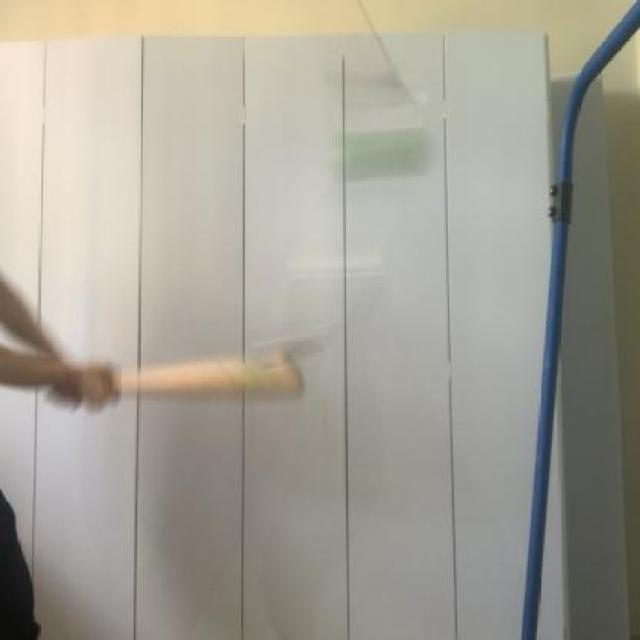baseball: (328, 113, 443, 189)
